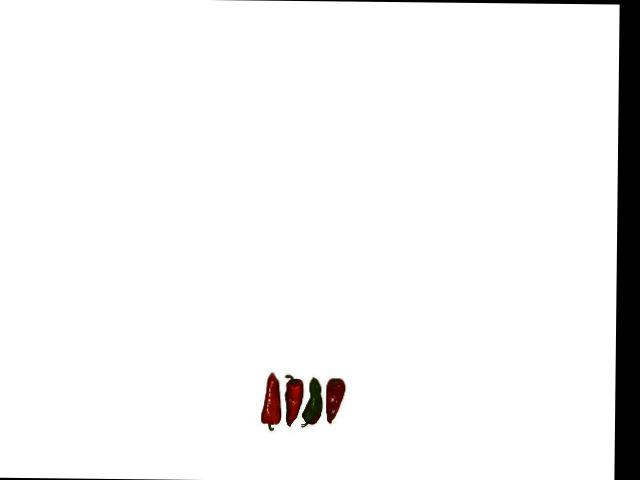bell_pepper: (324, 376, 350, 428)
